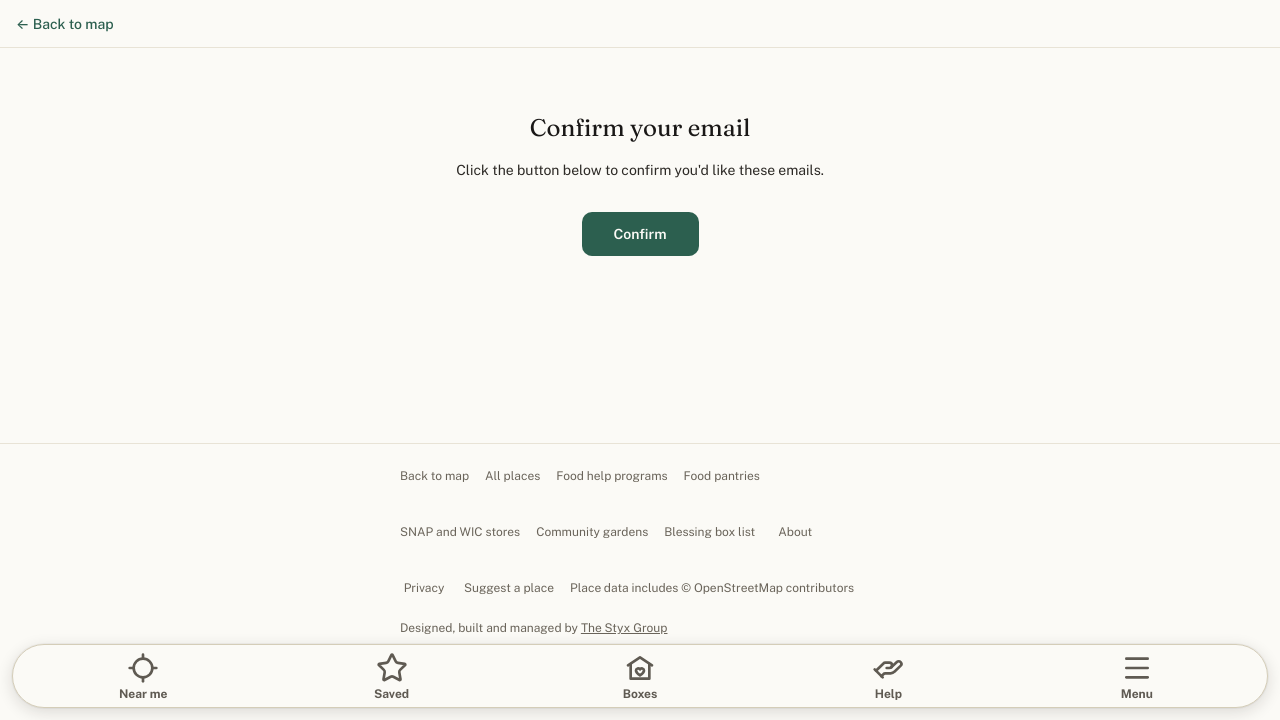
AlertsConfirmContent › a network failure shows the generic error message
The width and height of the screenshot is (1280, 720).
What coordinates should you click on to do the following:
click the button "Confirm"
I would click on:
 (640, 234)
Its box is [582,212,698,256].
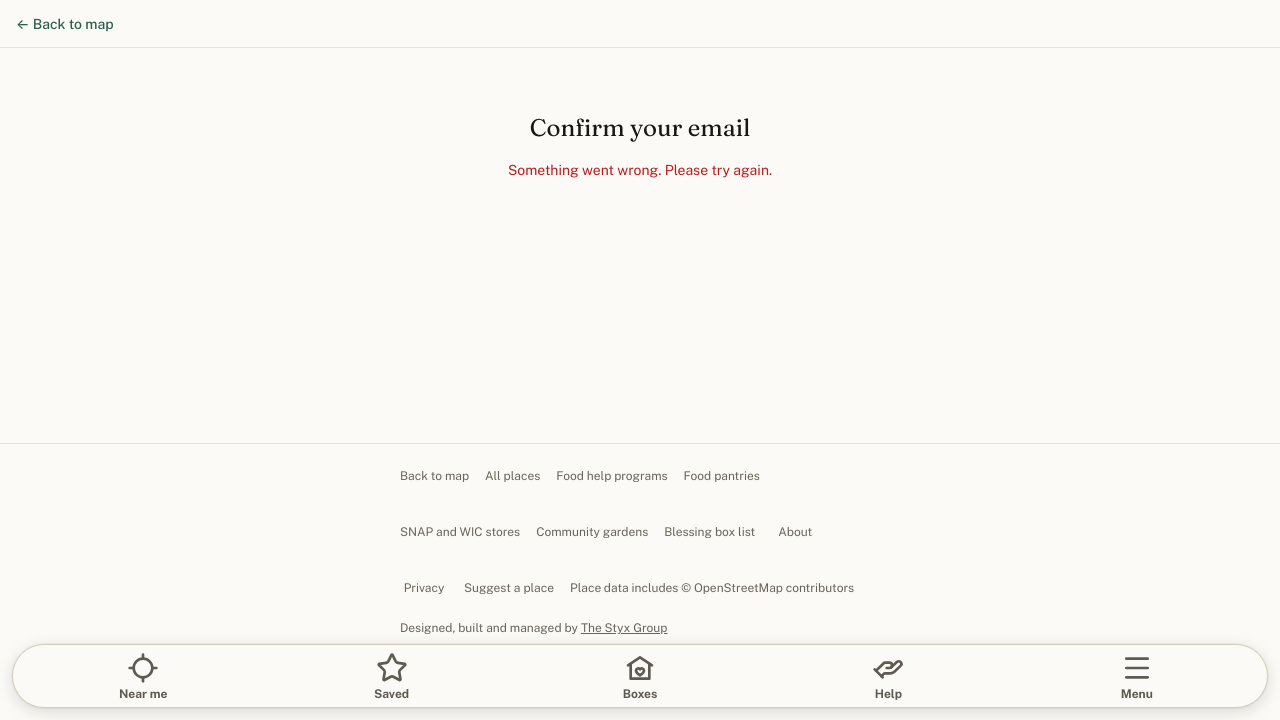
Result: the text "Something went wrong. Please try again." is shown at [508,162,772,178]
